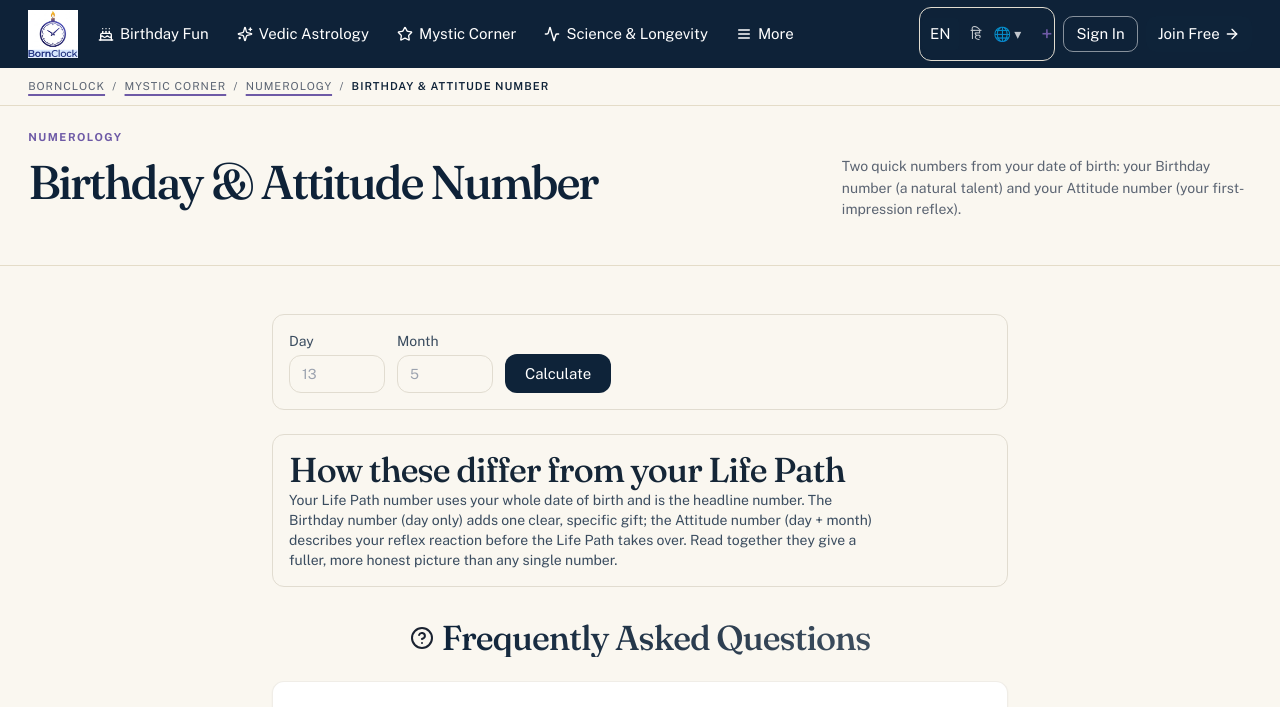
Test: Attitude/Birthday number page › rejects an invalid date
The image size is (1280, 707).
Type "45" into the field with test id "att-day" at {"x": 337, "y": 374}, box [289, 355, 385, 393]
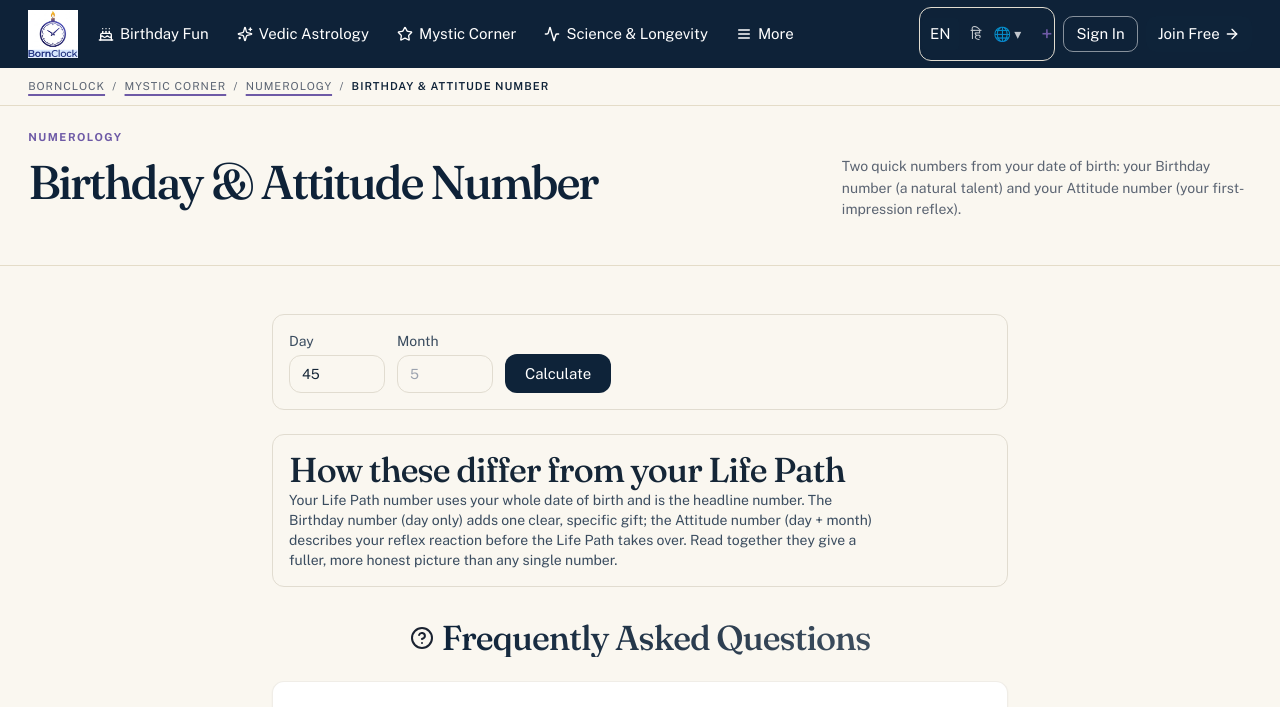
Type "13" into the field with test id "att-month" at {"x": 445, "y": 374}, box [397, 355, 493, 393]
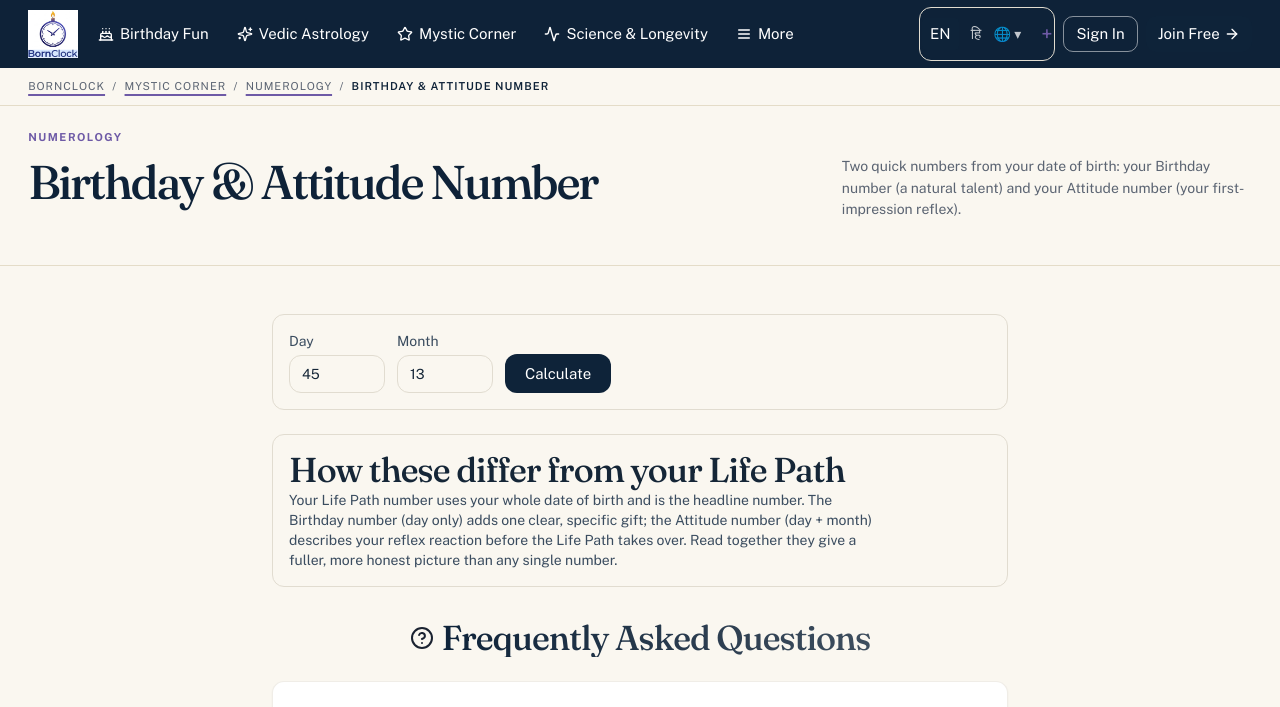
Click the button with test id "att-calc" at {"x": 558, "y": 373}, box [505, 354, 611, 393]
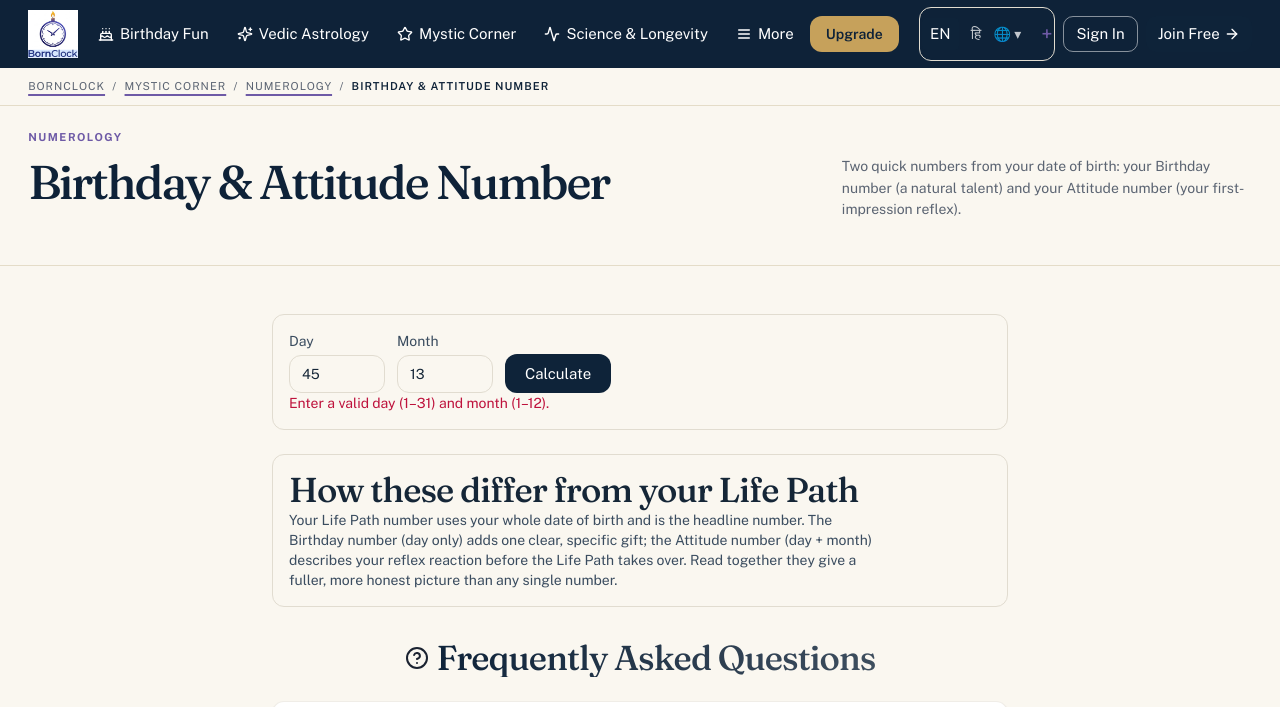
expect the text "Enter a valid day (1–31) and month (1–12)." is shown: met, box [289, 395, 549, 411]
